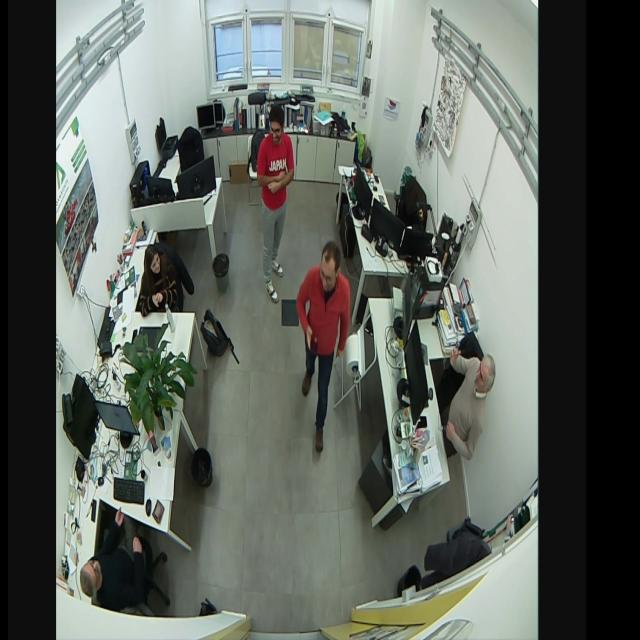Persona: (296, 235, 353, 458), (254, 98, 296, 304), (76, 515, 156, 621), (438, 341, 498, 463), (136, 240, 180, 323)
